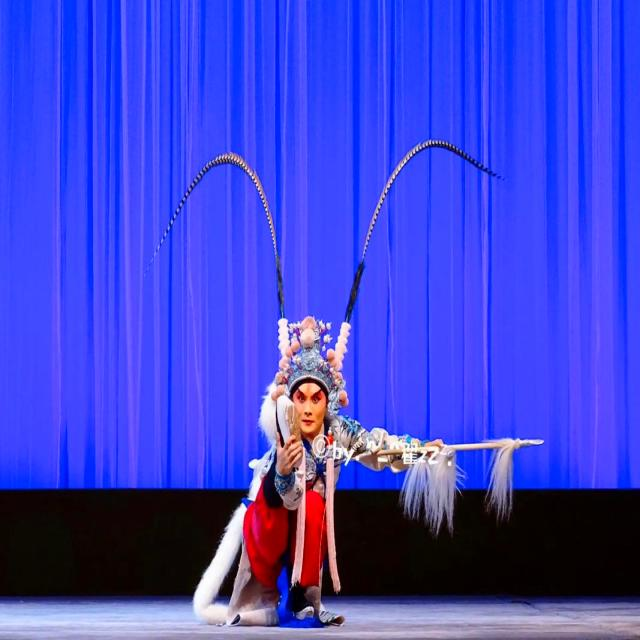Reeves-s Pheasant: (360, 138, 507, 263), (143, 152, 280, 278)
